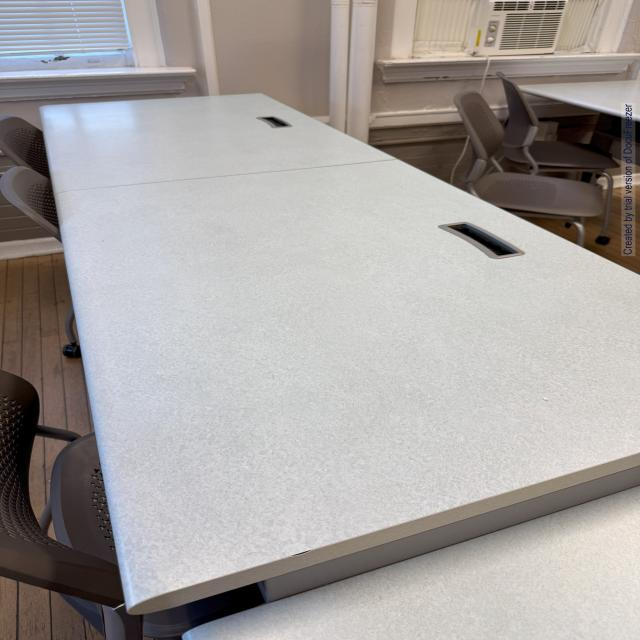Table: (43, 76, 640, 624)
